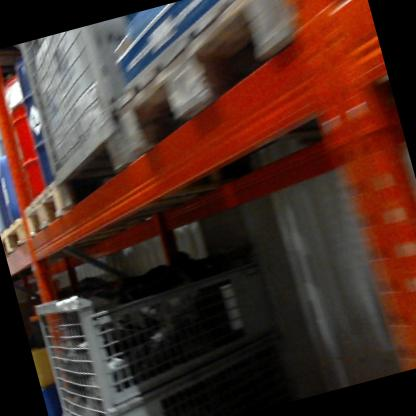pallet: (91, 0, 353, 154), (12, 167, 80, 254), (0, 203, 36, 266)
stillage: (25, 228, 322, 416), (14, 22, 145, 207)
